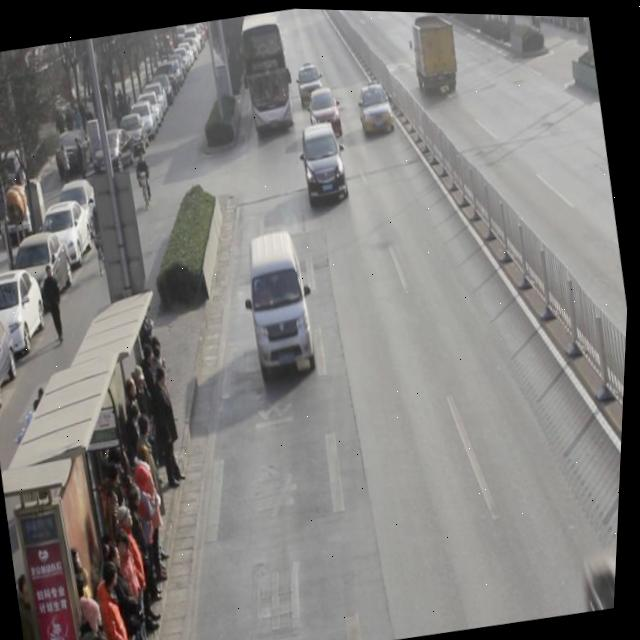bus: (407, 10, 465, 97)
car: (298, 118, 355, 208), (581, 532, 622, 608), (356, 79, 398, 136), (306, 83, 346, 139), (295, 63, 328, 108)
truck: (240, 226, 325, 382)
van: (235, 8, 300, 132)
